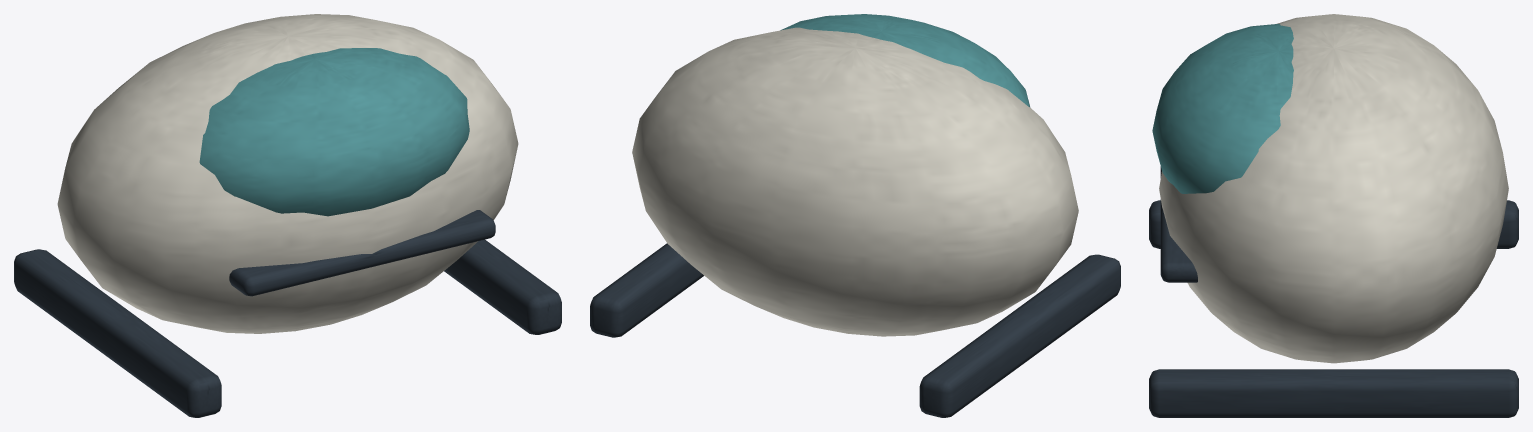
The model's file is ShelterPod.glb.
3 views of the same model, side by side, from view 1: azimuth 30°, elevation 25°; view 2: azimuth 150°, elevation 25°; view 3: azimuth 270°, elevation 25° (orthographic). The views are drawn at different scales.
Parts seen in each view (by area): view 1: Capsule, Canopy, Side skid, Hatch sill, Side skid.001; view 2: Capsule, Side skid, Canopy, Side skid.001; view 3: Capsule, Side skid.001, Canopy, Hatch sill, Side skid.
Boxes of the visible parts, box(x1,y1,x2,y2) form: Capsule: box(57, 14, 518, 333); Canopy: box(199, 48, 469, 216); Side skid: box(14, 249, 221, 417); Hatch sill: box(229, 210, 495, 296); Side skid.001: box(444, 239, 561, 334); Capsule: box(632, 27, 1078, 336); Side skid: box(919, 254, 1120, 417); Canopy: box(780, 14, 1029, 106); Side skid.001: box(590, 243, 703, 337); Capsule: box(1159, 14, 1508, 363); Side skid.001: box(1149, 369, 1518, 417); Canopy: box(1152, 24, 1293, 193); Hatch sill: box(1160, 166, 1197, 282); Side skid: box(1149, 200, 1518, 248).
Size of the model in its own units: 3 by 1.84 by 2.2.
3 materials, 3 textured.
